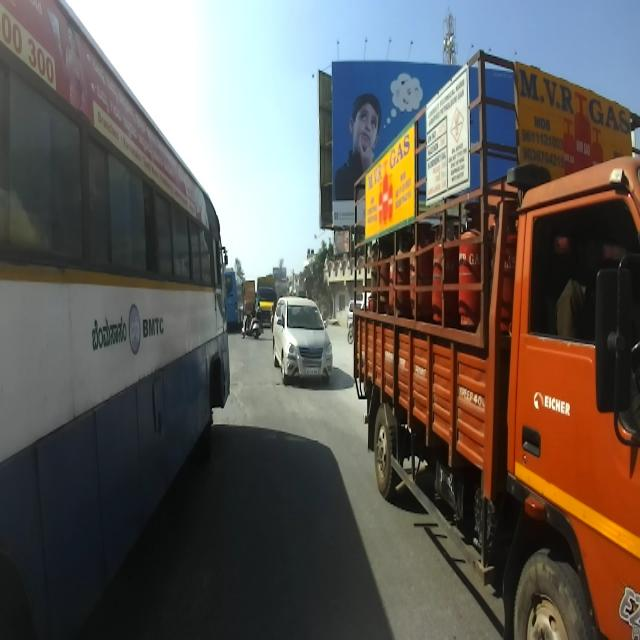bus: (0, 0, 230, 639)
car: (271, 294, 333, 386)
truck: (349, 48, 639, 638)
